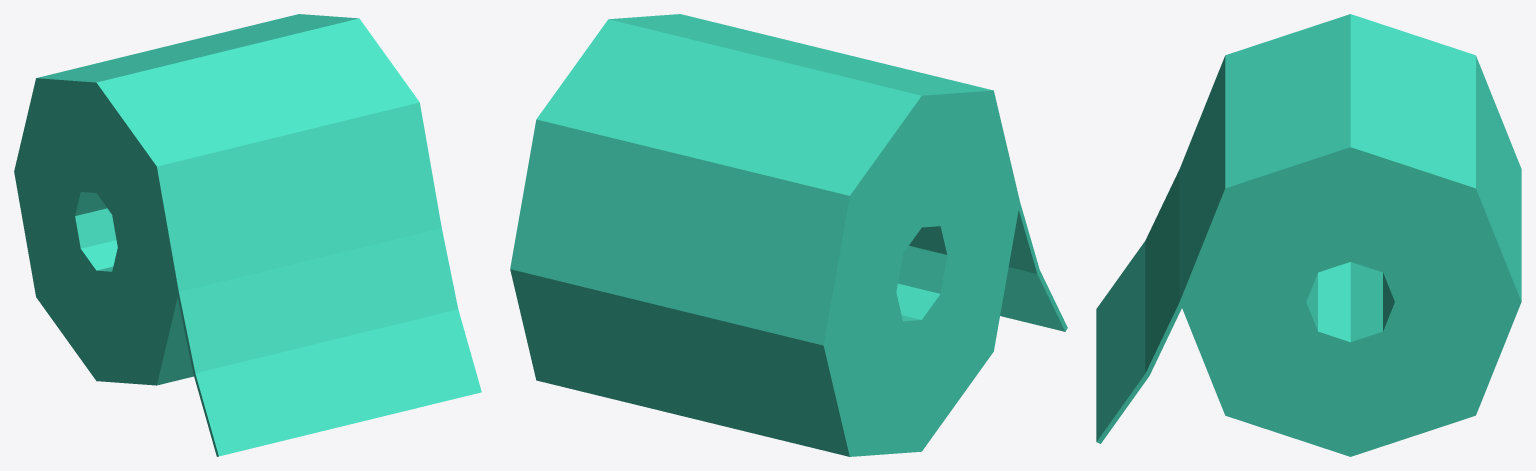
The model's file is paper2.glb.
3 views of the same model, side by side, from view 1: azimuth 30°, elevation 25°; view 2: azimuth 150°, elevation 25°; view 3: azimuth 270°, elevation 25° (orthographic). The views are drawn at different scales.
Parts seen in each view (by area): view 1: Cube_Cube.001; view 2: Cube_Cube.001; view 3: Cube_Cube.001.
Boxes of the visible parts, x1=… form: Cube_Cube.001: x1=14, y1=14, x2=481, y2=456; Cube_Cube.001: x1=510, y1=14, x2=1067, y2=456; Cube_Cube.001: x1=1096, y1=14, x2=1521, y2=456.
Bounding box in the file's own units: 0.8967 × 0.9731 × 1.21.
